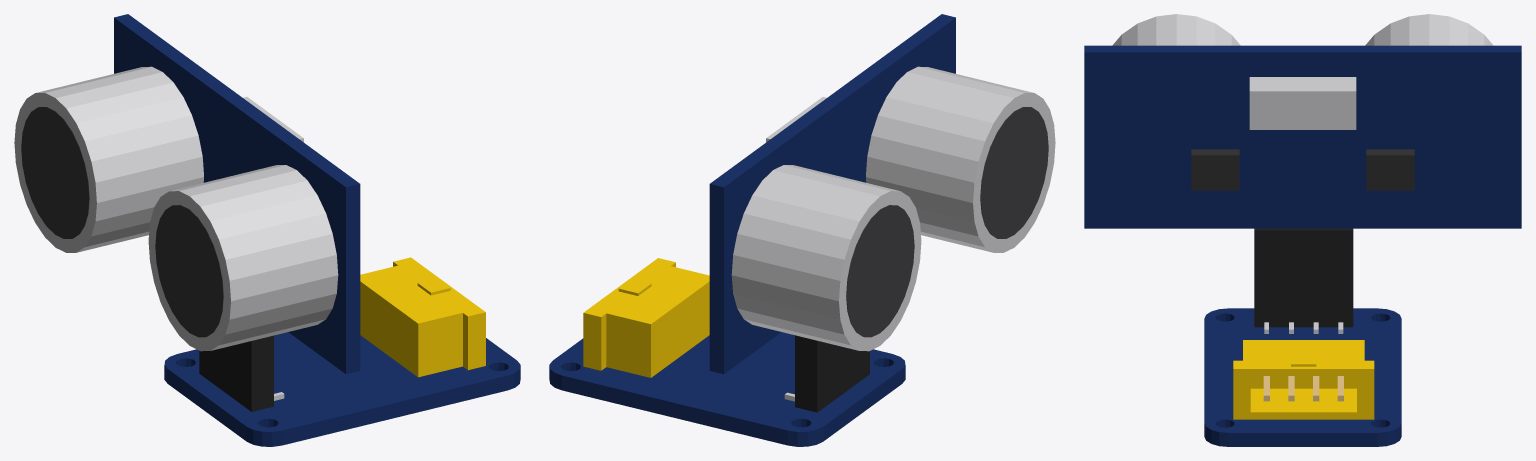
Rendered from ultrasonic.glb.
3 renders of one model, left to right at view 1: azimuth 30°, elevation 25°; view 2: azimuth 150°, elevation 25°; view 3: azimuth 270°, elevation 25°, orthographic. The views are drawn at different scales.
Parts seen in each view (by area): view 1: ultrasonic_receiver, ultrasonic_transmitter, ultrasonic_us_pcb, ultrasonic_pcb, ultrasonic_xh, ultrasonic_receiver_mesh, ultrasonic_transmitter_mesh, ultrasonic_header; view 2: ultrasonic_transmitter, ultrasonic_receiver, ultrasonic_us_pcb, ultrasonic_pcb, ultrasonic_xh, ultrasonic_transmitter_mesh, ultrasonic_receiver_mesh, ultrasonic_header; view 3: ultrasonic_us_pcb, ultrasonic_pcb, ultrasonic_xh, ultrasonic_header, ultrasonic_crystal, ultrasonic_chips, ultrasonic_receiver, ultrasonic_transmitter, ultrasonic_us_spacer, ultrasonic.
Part boxes in pixels (box(x1,y1,x2,y2)): ultrasonic_receiver: box(148, 165, 338, 351); ultrasonic_transmitter: box(14, 66, 203, 252); ultrasonic_us_pcb: box(114, 14, 360, 374); ultrasonic_pcb: box(164, 332, 520, 446); ultrasonic_xh: box(360, 257, 485, 377); ultrasonic_receiver_mesh: box(155, 205, 223, 337); ultrasonic_transmitter_mesh: box(21, 107, 89, 238); ultrasonic_header: box(199, 335, 273, 411); ultrasonic_transmitter: box(731, 165, 921, 351); ultrasonic_receiver: box(866, 66, 1055, 252); ultrasonic_us_pcb: box(709, 14, 955, 374); ultrasonic_pcb: box(549, 332, 905, 446); ultrasonic_xh: box(583, 258, 709, 377); ultrasonic_transmitter_mesh: box(846, 205, 914, 337); ultrasonic_receiver_mesh: box(980, 107, 1048, 238); ultrasonic_header: box(795, 335, 869, 412); ultrasonic_us_pcb: box(1084, 45, 1521, 228); ultrasonic_pcb: box(1204, 308, 1401, 446); ultrasonic_xh: box(1233, 340, 1374, 419); ultrasonic_header: box(1254, 252, 1353, 327); ultrasonic_crystal: box(1249, 77, 1356, 129); ultrasonic_chips: box(1191, 149, 1414, 190); ultrasonic_receiver: box(1112, 14, 1240, 45); ultrasonic_transmitter: box(1365, 14, 1493, 45); ultrasonic_us_spacer: box(1254, 228, 1353, 252); ultrasonic: box(1263, 376, 1343, 401).
Bounding box in the file's own units: 0.0398 × 0.0326 × 0.045.
